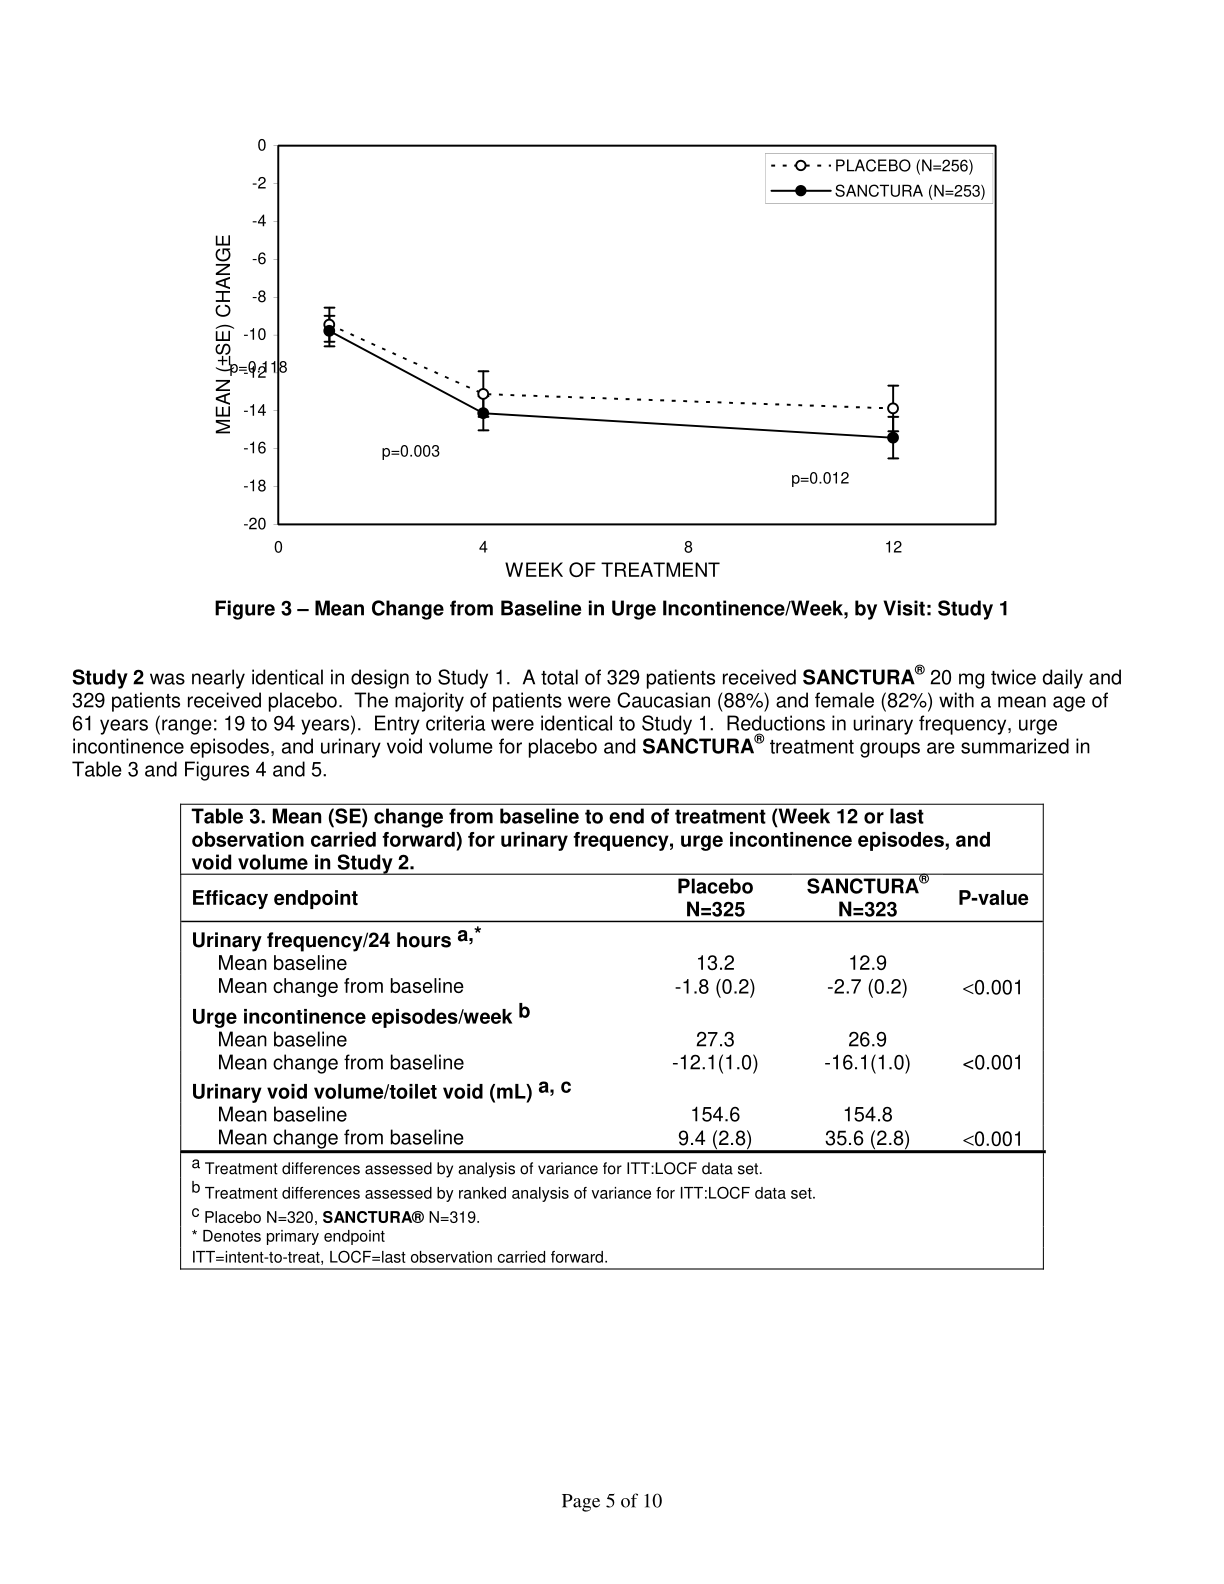partial_lined_merged_cells: (177, 804, 1047, 1273)
